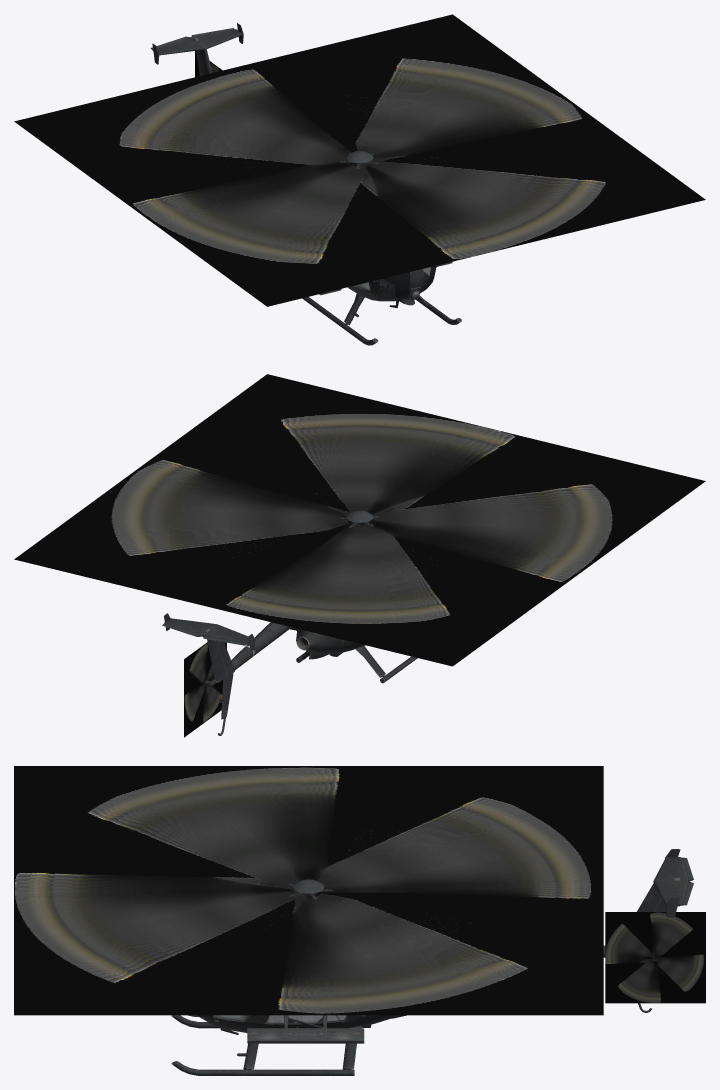
File: mh6-little-bird.glb
The picture shows the model from 3 angles, top to bottom: view 1: azimuth 30°, elevation 25°; view 2: azimuth 150°, elevation 25°; view 3: azimuth 270°, elevation 25°; orthographic projection. The views are drawn at different scales.
Visible parts, largest first — view 1: helicopter.001, helicopter; view 2: helicopter.001, helicopter, helicopter.002; view 3: helicopter.001, helicopter.002, helicopter, helicopter.003.
Part boxes in pixels (x1,y1,x2,y2): helicopter.001: (14, 14, 705, 306); helicopter: (150, 23, 461, 345); helicopter.001: (14, 374, 705, 666); helicopter: (162, 613, 417, 735); helicopter.002: (184, 642, 226, 737); helicopter.001: (14, 766, 603, 1015); helicopter.002: (605, 912, 705, 1003); helicopter: (171, 849, 693, 1075); helicopter.003: (289, 879, 332, 900).
Bounding box in the file's own units: 312 × 102 × 366.
Materials: 3 (3 with a texture image).
